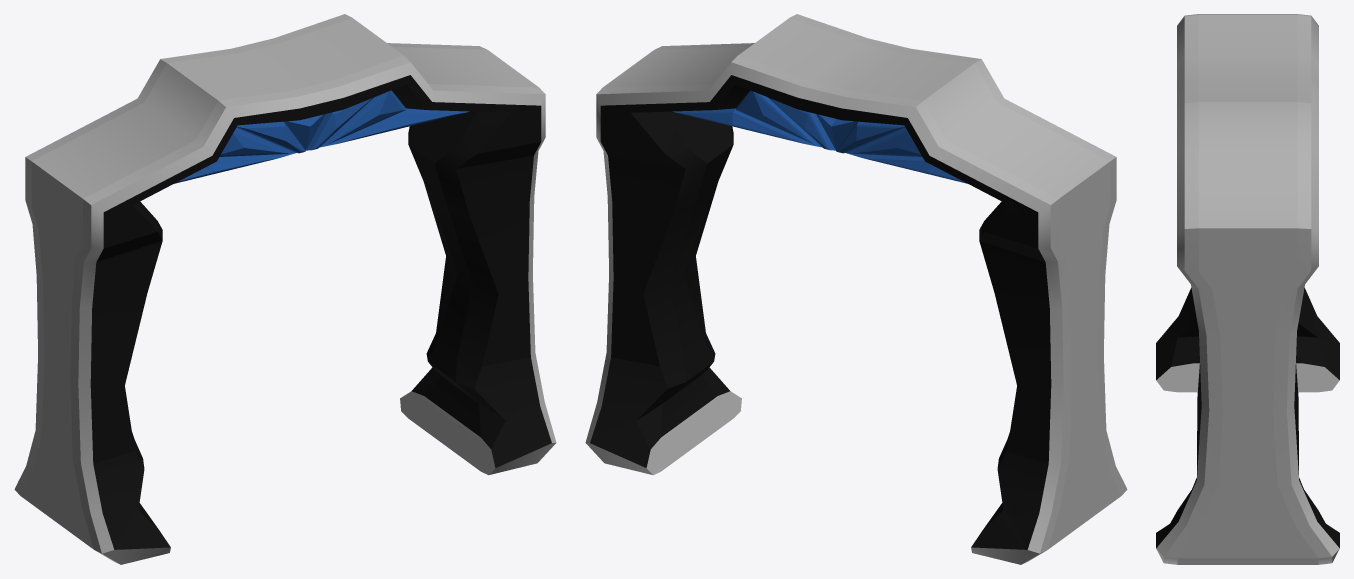
Rendered from AirlockDoor_Frame.FBX.
3 renders of one model, left to right at view 1: azimuth 30°, elevation 25°; view 2: azimuth 150°, elevation 25°; view 3: azimuth 270°, elevation 25°, orthographic. The views are drawn at different scales.
Visible parts, largest first — view 1: Door_Frame; view 2: Door_Frame; view 3: Door_Frame.
Part boxes in pixels (x1=…): Door_Frame: x1=14, y1=14, x2=556, y2=564; Door_Frame: x1=585, y1=14, x2=1127, y2=564; Door_Frame: x1=1156, y1=14, x2=1339, y2=564.
Size of the model in its own units: 400 by 356 by 145.
